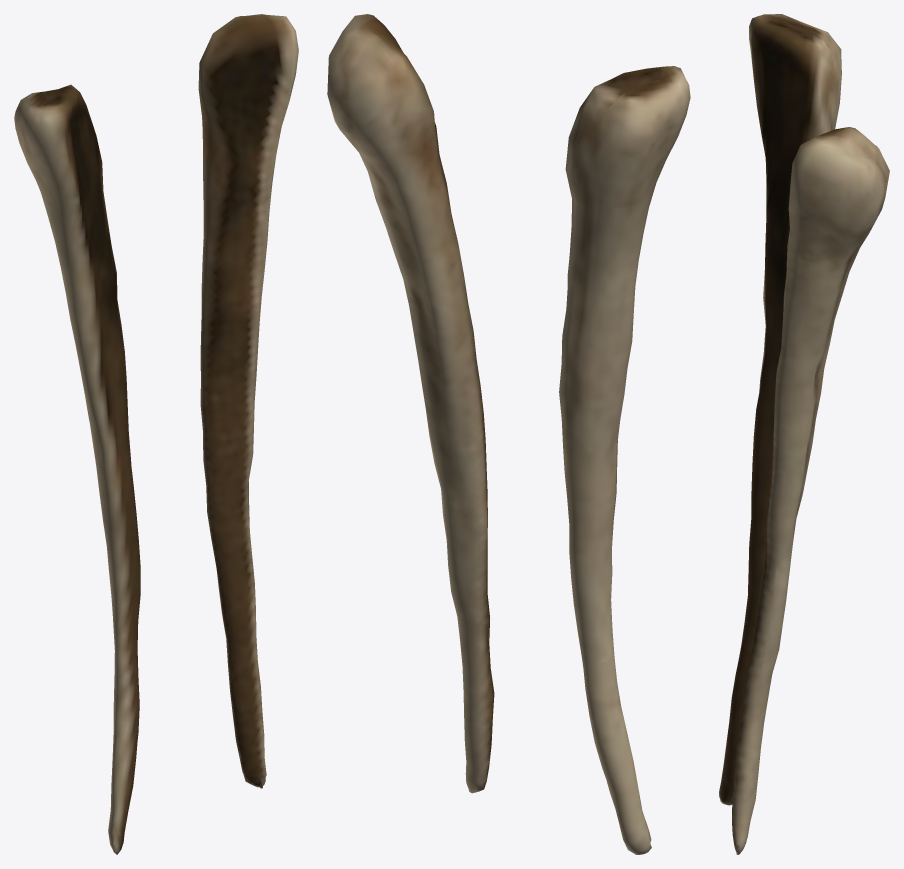
Rendered from Splints.glb.
The picture shows the model from 3 angles, left to right: view 1: azimuth 30°, elevation 25°; view 2: azimuth 150°, elevation 25°; view 3: azimuth 270°, elevation 25°; orthographic projection. The views are drawn at different scales.
Visible parts, largest first — view 1: L_Frt_Splints; view 2: L_Frt_Splints; view 3: L_Frt_Splints.
Part boxes in pixels (box(x1,y1,x2,y2)): L_Frt_Splints: box(14, 14, 298, 854); L_Frt_Splints: box(327, 14, 690, 854); L_Frt_Splints: box(719, 14, 889, 854).
Bounding box in the file's own units: 0.0703 × 0.1729 × 0.0347.
1 material, 1 textured.
